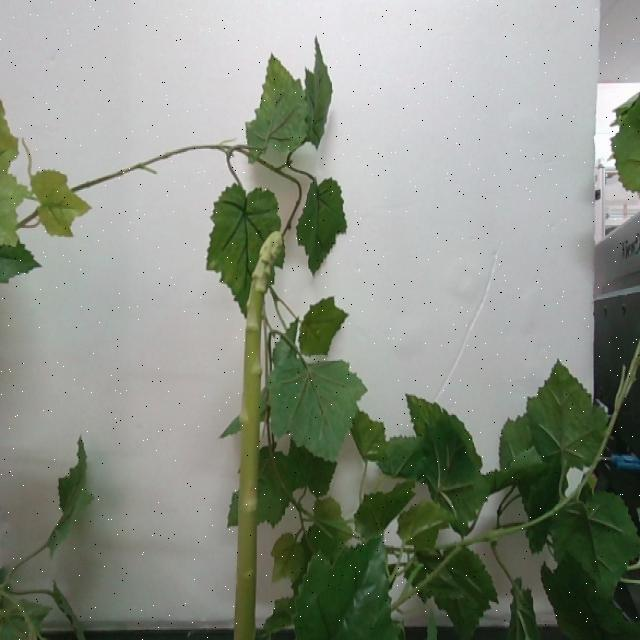aspargus: (233, 229, 286, 640)
